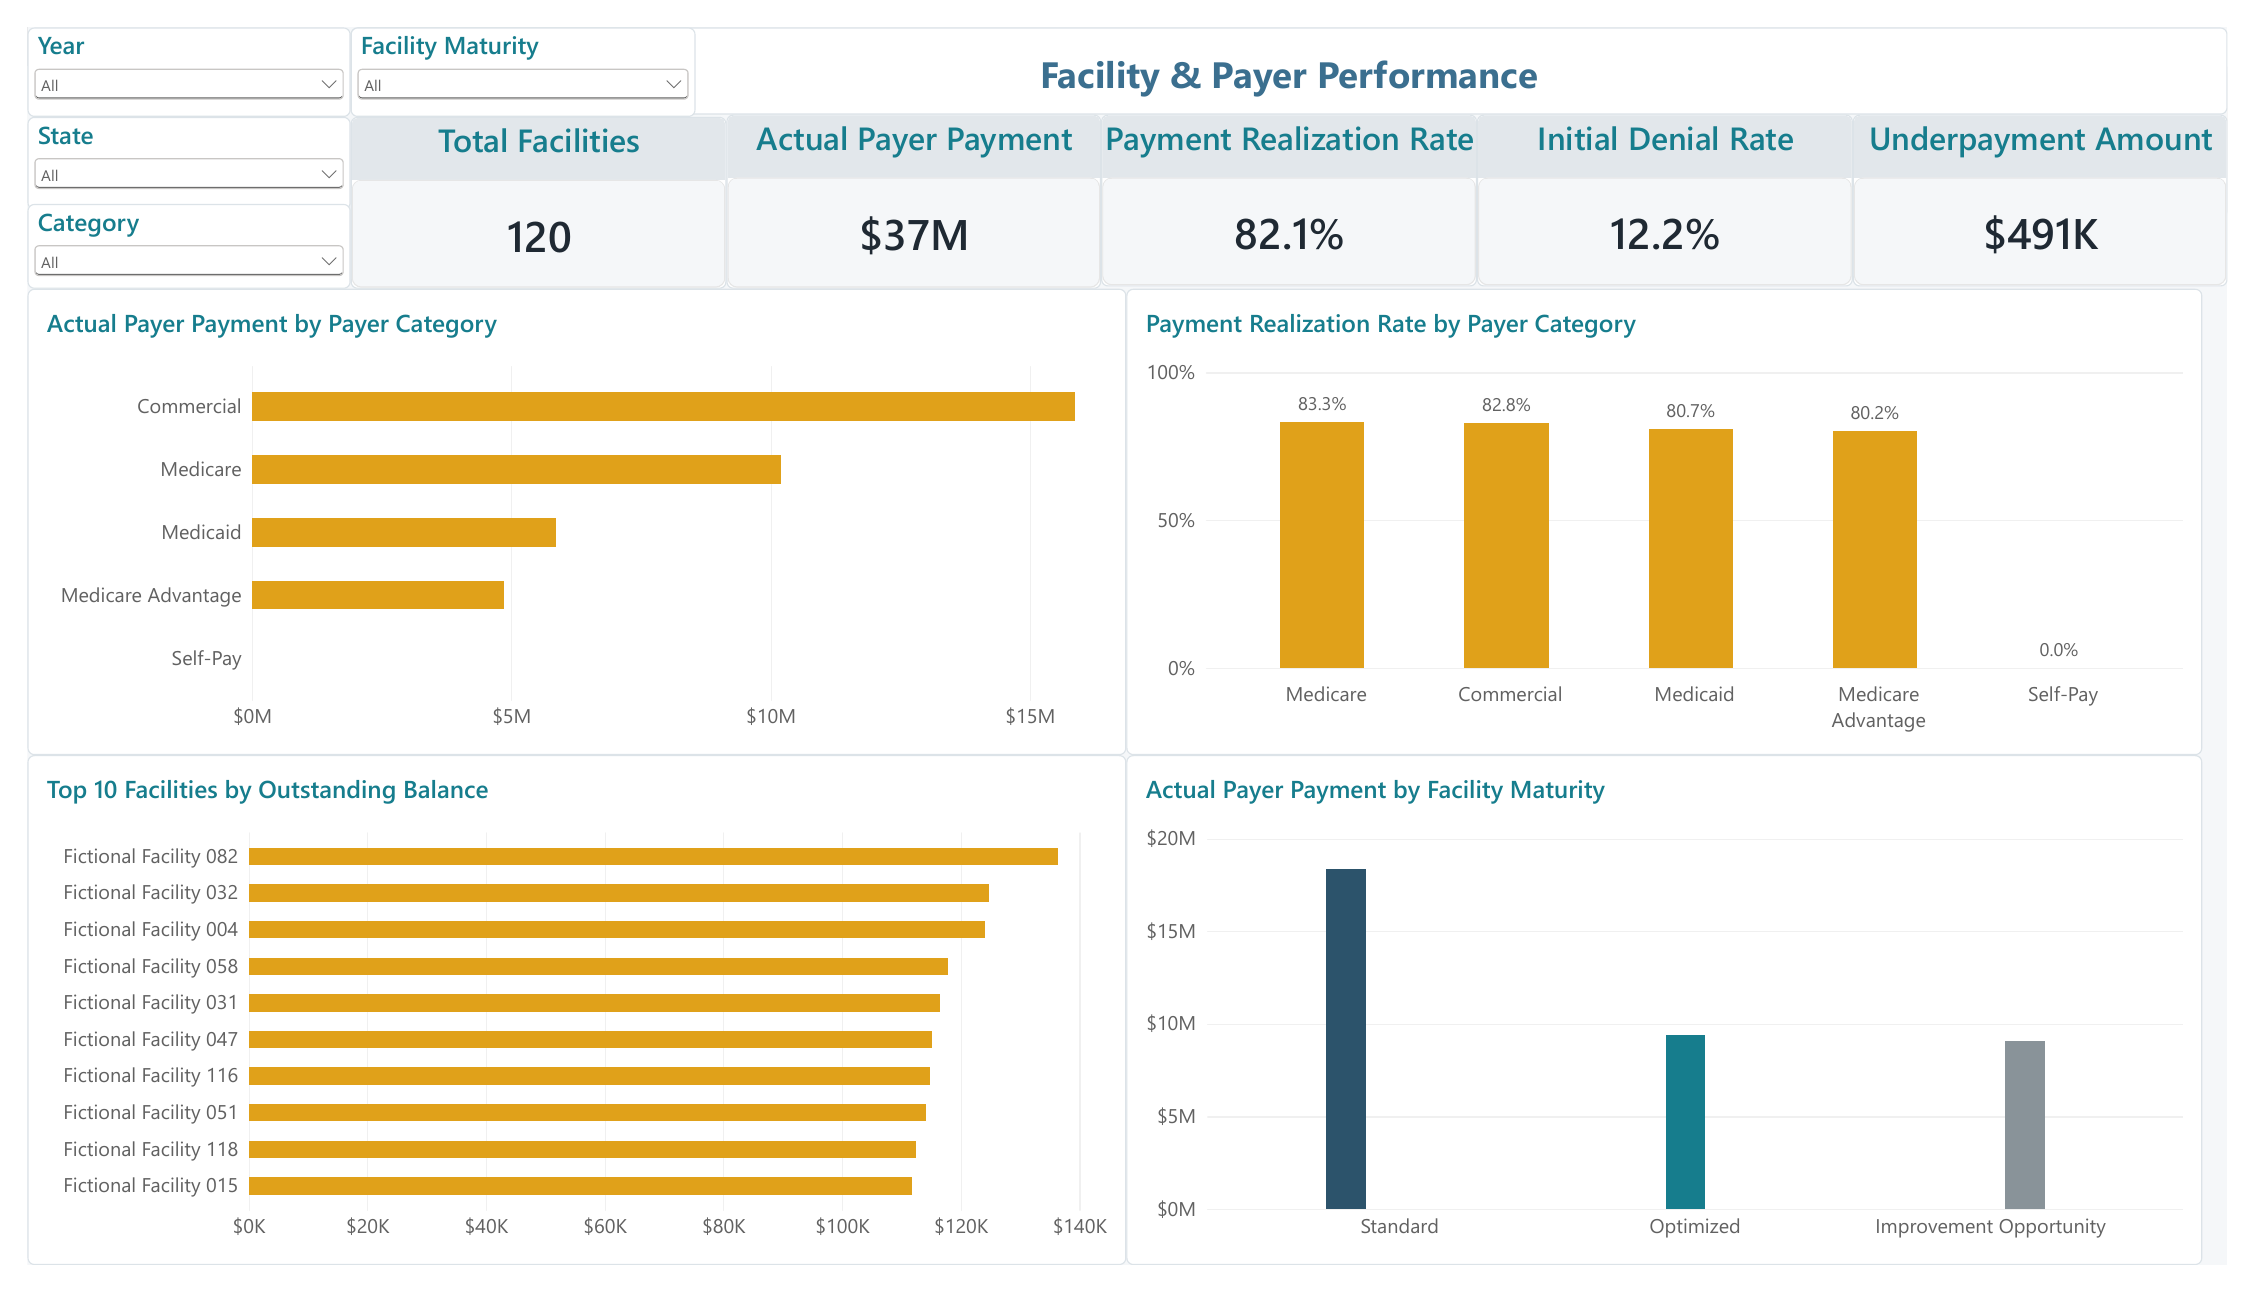

The page's visual inventory and layout, read from the dashboard file:
{"tool":"powerbi","page":{"name":"Facility & Payer Performance","canvas":[1920,1080],"ordinal":2},"visuals":[{"type":"textbox","box":[282.3,0,1637.7,76],"z":0},{"type":"cardVisual","title":"Total Facilities","fields":{"Data":["FactClaims.Total Facilities"]},"box":[282.3,77.8,327.5,150.2],"z":1000},{"type":"cardVisual","title":"Underpayment Amount","fields":{"Data":["FactClaims.Underpayment Amount"]},"box":[1592.5,76,327.5,150.2],"z":2000},{"type":"cardVisual","title":"Payment Realization Rate","fields":{"Data":["FactClaims.Payment Realization Rate"]},"box":[937.4,76,327.5,150.2],"z":4000},{"type":"cardVisual","title":"Initial Denial Rate","fields":{"Data":["FactClaims.Initial Denial Rate"]},"box":[1265,76,327.5,150.2],"z":5000},{"type":"slicer","fields":{"Values":["DimDate.year"]},"box":[0,0,282.3,77.8],"z":6000},{"type":"slicer","fields":{"Values":["DimFacility.state"]},"box":[0,77.8,282.3,81.4],"z":7000},{"type":"slicer","fields":{"Values":["DimPayer.payer_category"]},"box":[0,153.8,282.3,74.2],"z":8000},{"type":"clusteredBarChart","title":"Actual Payer Payment by Payer Category","fields":{"Category":["DimPayer.payer_category"],"Y":["FactClaims.Actual Payer Payment"]},"box":[0,228,959.1,407.2],"z":9000},{"type":"clusteredBarChart","title":"Top 10 Facilities by Outstanding Balance","fields":{"Category":["DimFacility.fictional_facility_name"],"Y":["FactClaims.Outstanding Balance"]},"box":[0,635.2,959.1,445.2],"z":10000},{"type":"clusteredColumnChart","title":"Payment Realization Rate by Payer Category","fields":{"Category":["DimPayer.payer_category"],"Y":["FactClaims.Payment Realization Rate"]},"box":[959.1,228,939.2,407.2],"z":11000},{"type":"clusteredColumnChart","title":"Actual Payer Payment by Facility Maturity","fields":{"Category":["DimFacility.facility_maturity"],"Series":["DimFacility.facility_maturity"],"Y":["FactClaims.Actual Payer Payment"]},"box":[959.1,635.2,939.2,445.2],"z":12000},{"type":"cardVisual","title":"Actual Payer Payment","fields":{"Data":["FactClaims.Actual Payer Payment"]},"box":[609.9,76,327.5,152],"z":12001},{"type":"slicer","fields":{"Values":["DimFacility.facility_maturity"]},"box":[282.3,0,300.4,77.8],"z":12002}]}

Visuals, with their boxes in screenshot pixels (x1, y1, x2, y2), scaled from the page's 1920x1080 canvas onto the 2255x1293 screenshot:
textbox: <bbox>332, 0, 2254, 91</bbox>
"Total Facilities" cardVisual: <bbox>332, 93, 716, 273</bbox>
"Underpayment Amount" cardVisual: <bbox>1870, 91, 2254, 271</bbox>
"Payment Realization Rate" cardVisual: <bbox>1101, 91, 1486, 271</bbox>
"Initial Denial Rate" cardVisual: <bbox>1486, 91, 1870, 271</bbox>
slicer - DimDate.year: <bbox>0, 0, 332, 93</bbox>
slicer - DimFacility.state: <bbox>0, 93, 332, 191</bbox>
slicer - DimPayer.payer_category: <bbox>0, 184, 332, 273</bbox>
"Actual Payer Payment by Payer Category" clusteredBarChart: <bbox>0, 273, 1126, 760</bbox>
"Top 10 Facilities by Outstanding Balance" clusteredBarChart: <bbox>0, 760, 1126, 1292</bbox>
"Payment Realization Rate by Payer Category" clusteredColumnChart: <bbox>1126, 273, 2230, 760</bbox>
"Actual Payer Payment by Facility Maturity" clusteredColumnChart: <bbox>1126, 760, 2230, 1292</bbox>
"Actual Payer Payment" cardVisual: <bbox>716, 91, 1101, 273</bbox>
slicer - DimFacility.facility_maturity: <bbox>332, 0, 684, 93</bbox>
